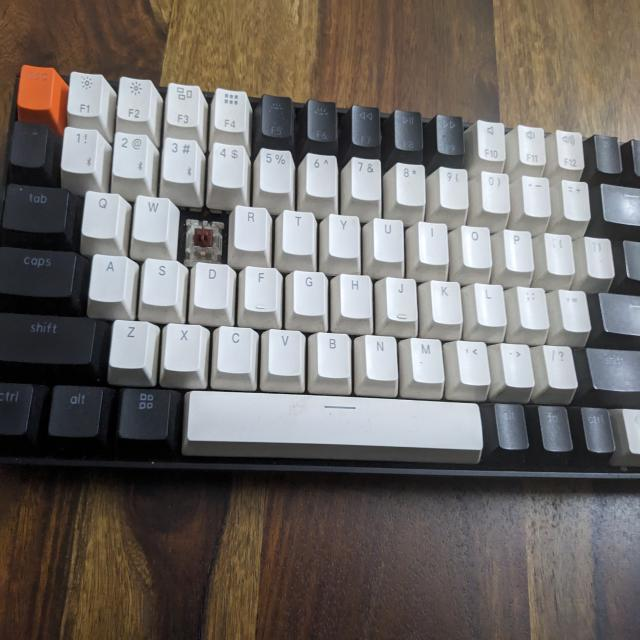key-switch: (183, 213, 226, 263)
